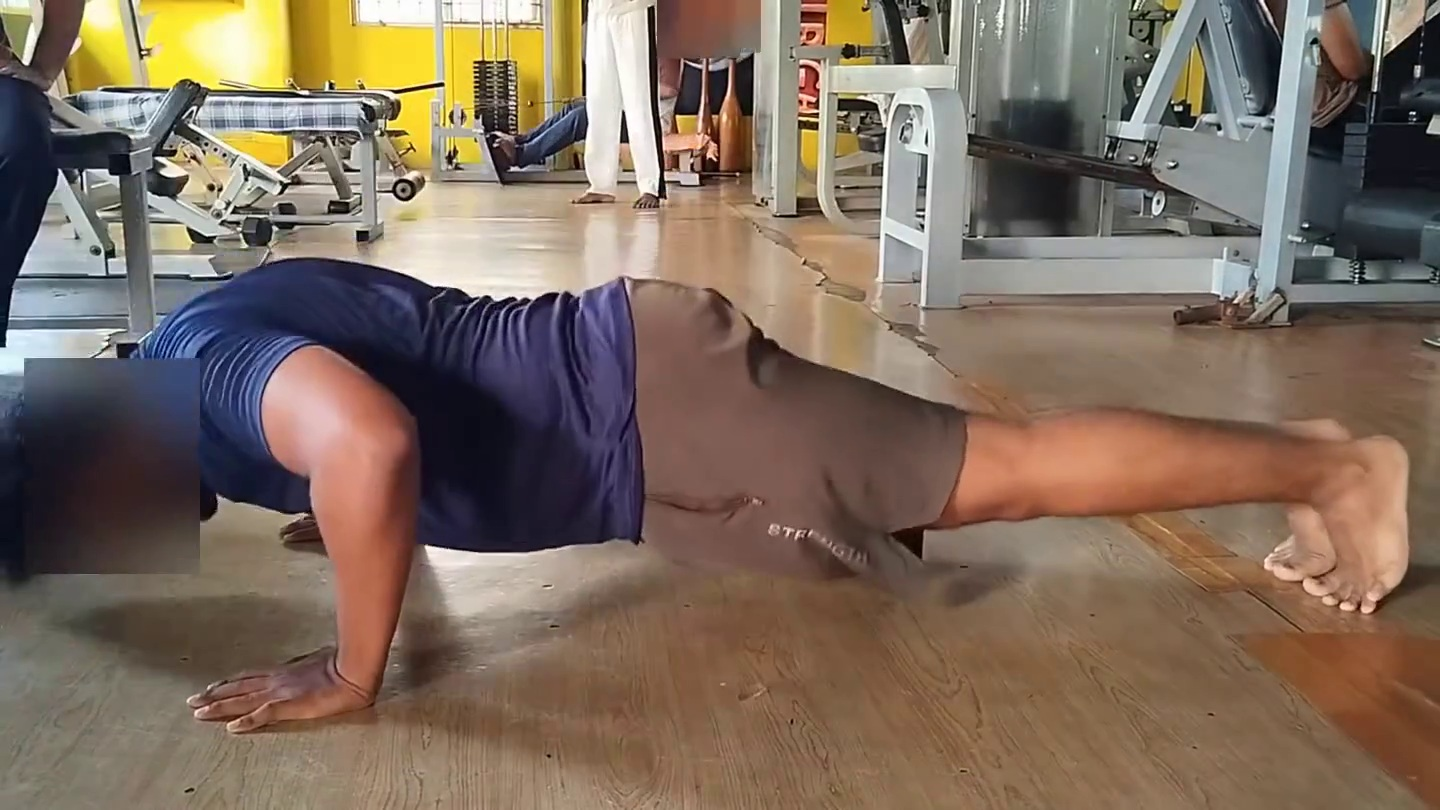push_up_incorrect: (0, 203, 1440, 810)
